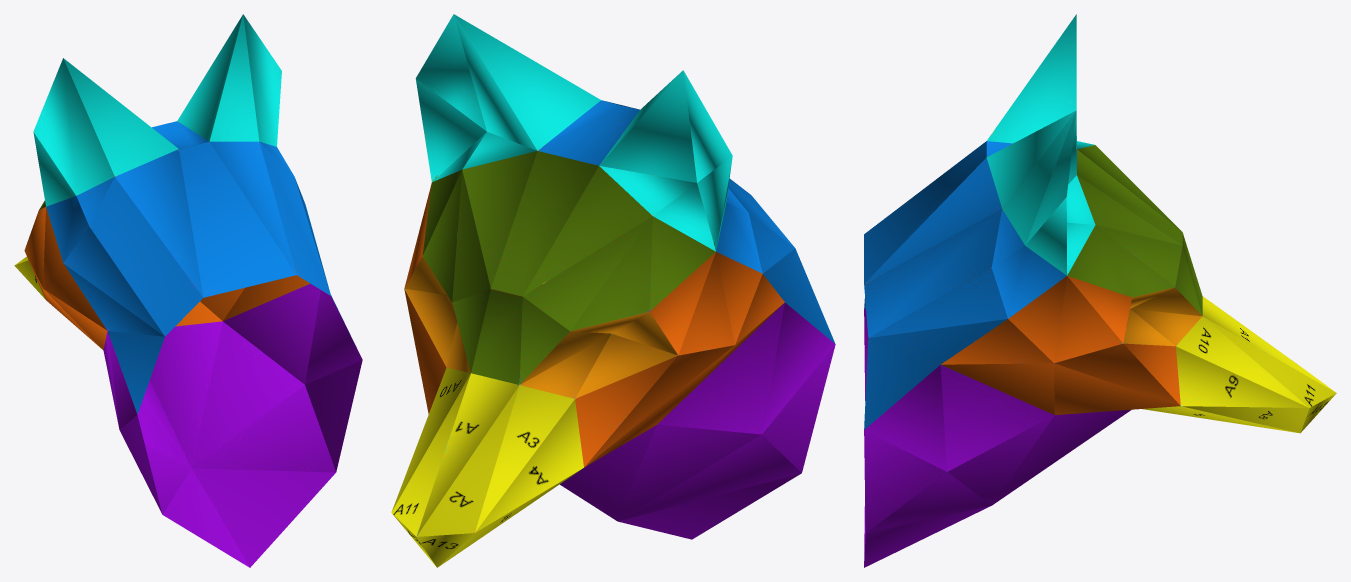
File: foxPoligons.gltf
3 renders of one model, left to right at view 1: azimuth 30°, elevation 25°; view 2: azimuth 150°, elevation 25°; view 3: azimuth 270°, elevation 25°, orthographic. The views are drawn at different scales.
Parts seen in each view (by area): view 1: foxPoligons; view 2: foxPoligons; view 3: foxPoligons.
Boxes of the visible parts, left/top/right/bottom form: foxPoligons: left=14, top=14, right=362, bottom=567; foxPoligons: left=391, top=14, right=835, bottom=567; foxPoligons: left=864, top=14, right=1336, bottom=567.
Size of the model in its own units: 0.2105 by 0.373 by 0.316.
Materials: 1 (1 with a texture image).
